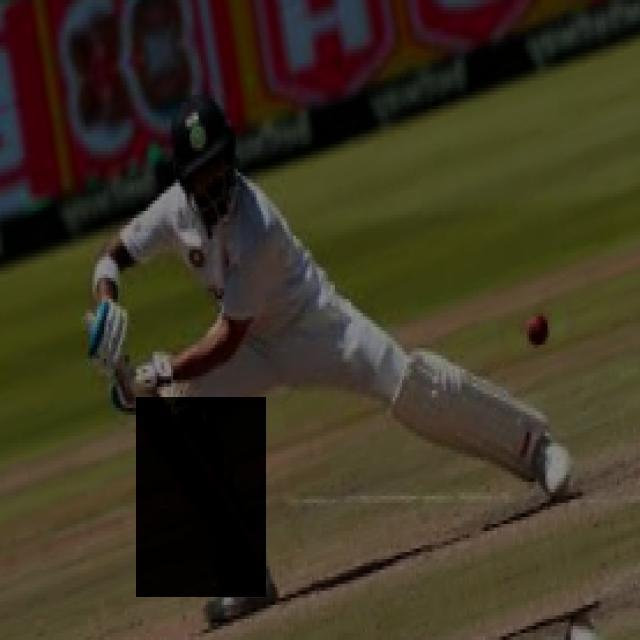bat: (136, 398, 266, 592)
